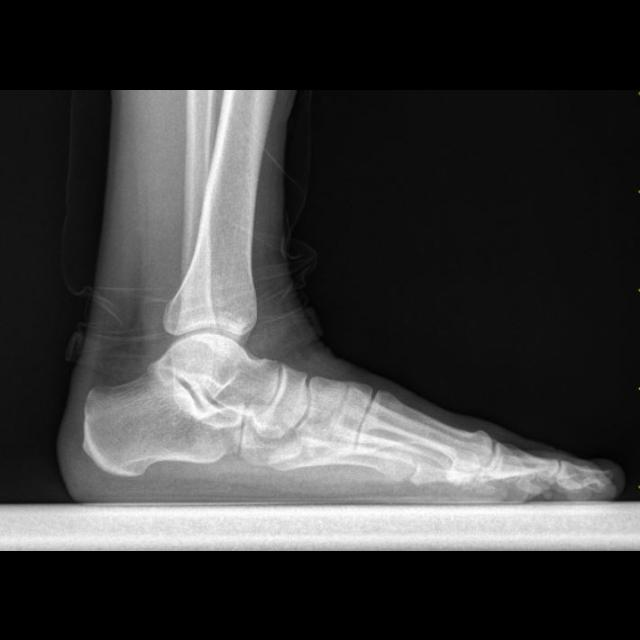a: (84, 360, 238, 475)
b: (254, 363, 308, 445)
c: (356, 390, 493, 483)
